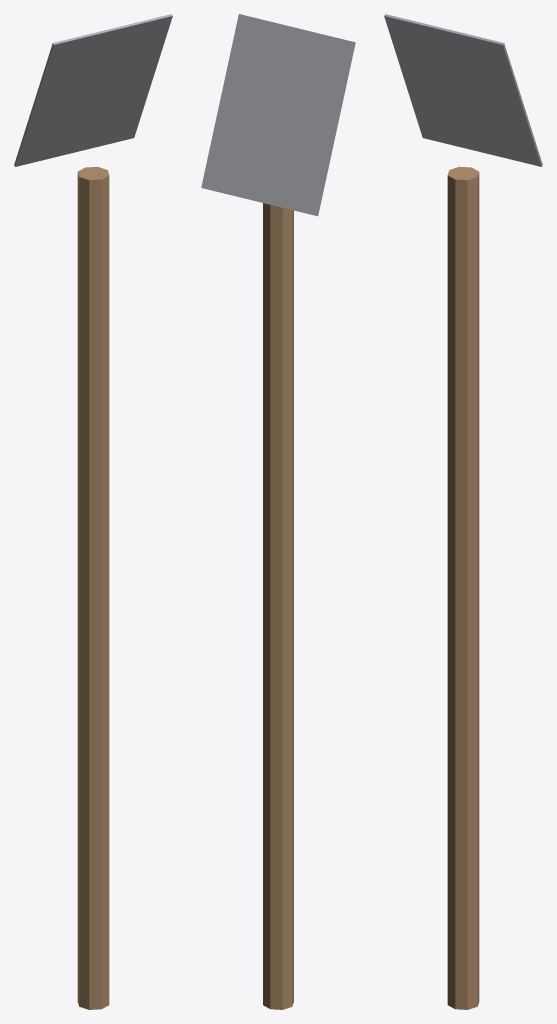
The model's file is shovel.glb.
3 views of the same model, side by side, from view 1: azimuth 30°, elevation 25°; view 2: azimuth 150°, elevation 25°; view 3: azimuth 330°, elevation 25° (orthographic). The views are drawn at different scales.
Parts seen in each view (by area): view 1: shovel; view 2: shovel; view 3: shovel.
Boxes of the visible parts, left/top/right/bottom form: shovel: left=14, top=14, right=172, bottom=1009; shovel: left=201, top=14, right=355, bottom=1009; shovel: left=384, top=14, right=542, bottom=1009.
Bounding box in the file's own units: 0.15 × 1.19 × 0.0872.
